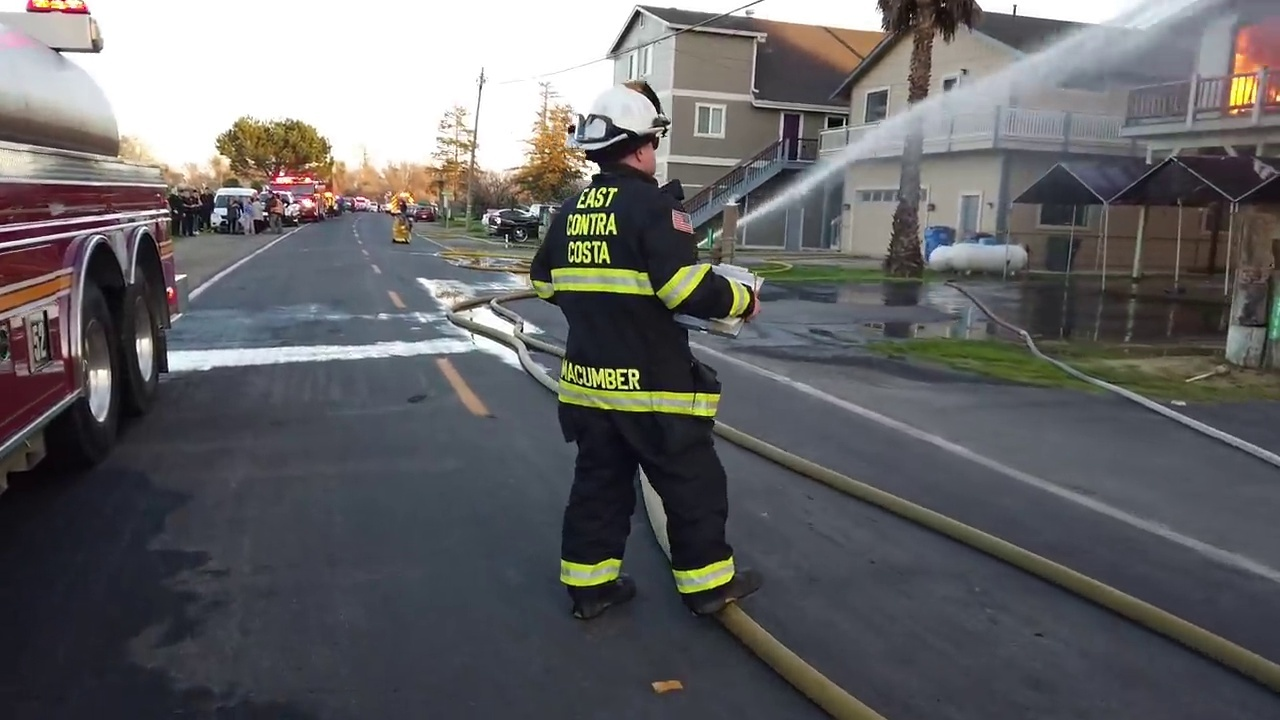fire: (651, 680, 683, 691)
